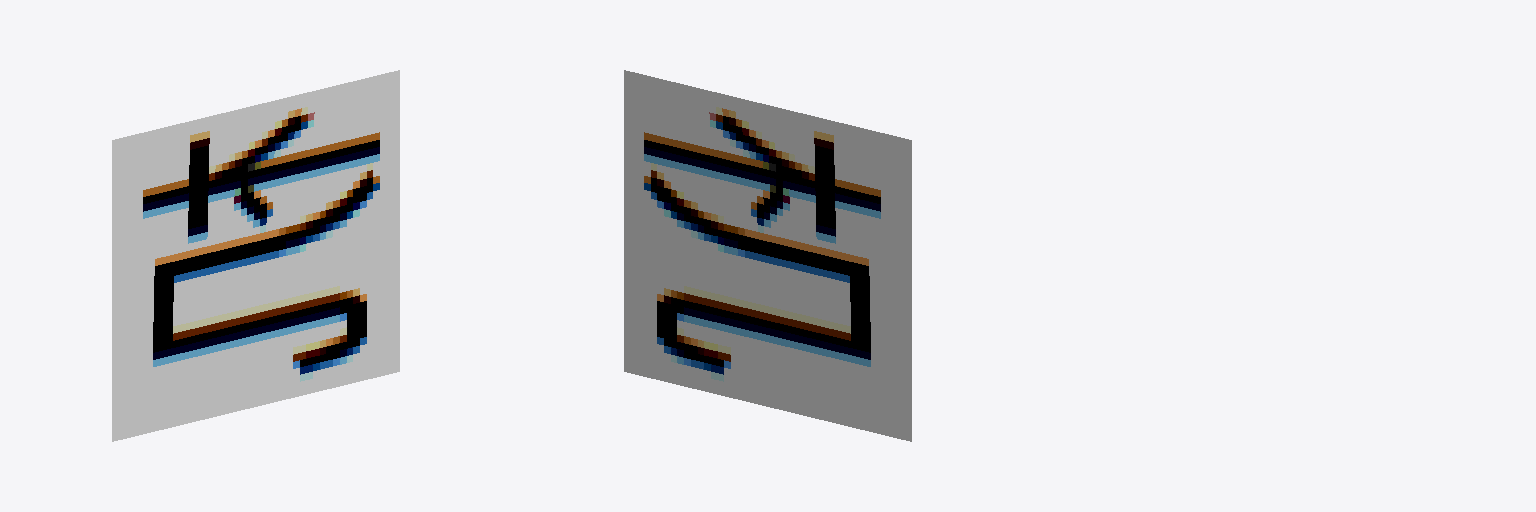
3 renders of one model, left to right at view 1: azimuth 30°, elevation 25°; view 2: azimuth 150°, elevation 25°; view 3: azimuth 270°, elevation 25°, orthographic.
Visible parts, largest first — view 1: Plane; view 2: Plane; view 3: none.
Part boxes in pixels (x1,y1,x2,y2): Plane: (112,70,399,441); Plane: (624,70,911,441).
Size of the model in its own units: 2 by 2 by 0.
1 materials, 1 textured.